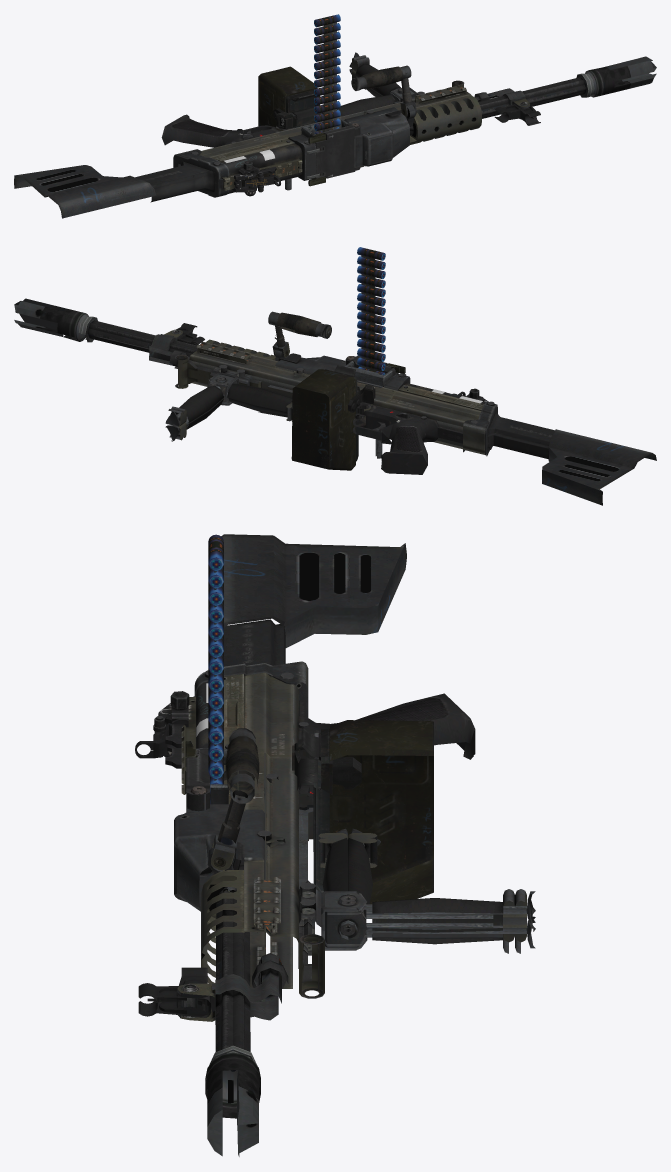
Rendered from t6_wpn_lmg_lsat_view_LOD0.obj.
3 renders of one model, top to bottom at view 1: azimuth 30°, elevation 25°; view 2: azimuth 150°, elevation 25°; view 3: azimuth 270°, elevation 25°, orthographic. The views are drawn at different scales.
Visible parts, largest first — view 1: mtl_t6_wpn_lmg_lsat_camo2, mtl_t6_wpn_lmg_lsat_camo1, mtl_t6_wpn_lmg_lsat_camo3, mtl_t6_wpn_lmg_lsat_ammo, mtl_t6_wpn_lmg_lsat_camo4; view 2: mtl_t6_wpn_lmg_lsat_camo2, mtl_t6_wpn_lmg_lsat_camo1, mtl_t6_wpn_lmg_lsat_ammo, mtl_t6_wpn_lmg_lsat_camo4, mtl_t6_wpn_lmg_lsat_camo3; view 3: mtl_t6_wpn_lmg_lsat_camo2, mtl_t6_wpn_lmg_lsat_camo1, mtl_t6_wpn_lmg_lsat_ammo, mtl_t6_wpn_lmg_lsat_camo3, mtl_t6_wpn_lmg_lsat_camo4.
Part boxes in pixels (bbox=[...]): mtl_t6_wpn_lmg_lsat_camo2: bbox=[14, 14, 656, 218]; mtl_t6_wpn_lmg_lsat_camo1: bbox=[135, 52, 540, 202]; mtl_t6_wpn_lmg_lsat_camo3: bbox=[199, 80, 527, 194]; mtl_t6_wpn_lmg_lsat_ammo: bbox=[258, 66, 321, 129]; mtl_t6_wpn_lmg_lsat_camo4: bbox=[236, 64, 591, 192]; mtl_t6_wpn_lmg_lsat_camo2: bbox=[14, 247, 656, 505]; mtl_t6_wpn_lmg_lsat_camo1: bbox=[149, 311, 554, 459]; mtl_t6_wpn_lmg_lsat_ammo: bbox=[291, 365, 375, 470]; mtl_t6_wpn_lmg_lsat_camo4: bbox=[81, 312, 463, 429]; mtl_t6_wpn_lmg_lsat_camo3: bbox=[152, 329, 494, 458]; mtl_t6_wpn_lmg_lsat_camo2: bbox=[158, 534, 475, 1156]; mtl_t6_wpn_lmg_lsat_camo1: bbox=[135, 619, 535, 1021]; mtl_t6_wpn_lmg_lsat_ammo: bbox=[292, 720, 433, 904]; mtl_t6_wpn_lmg_lsat_camo3: bbox=[154, 670, 356, 1024]; mtl_t6_wpn_lmg_lsat_camo4: bbox=[135, 707, 527, 1065].
Bounding box in the file's own units: 113 × 32.52 × 32.72.
